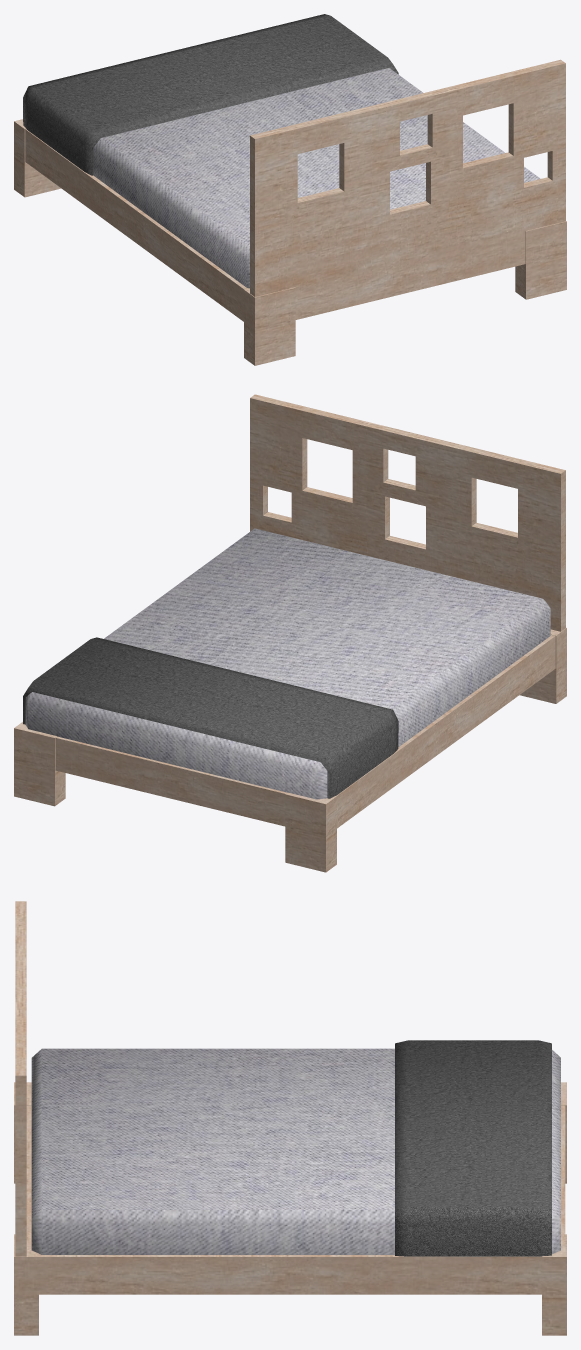
File: Bed_07.glb
3 renders of one model, top to bottom at view 1: azimuth 30°, elevation 25°; view 2: azimuth 150°, elevation 25°; view 3: azimuth 270°, elevation 25°, orthographic. The views are drawn at different scales.
Parts seen in each view (by area): view 1: Bed_07; view 2: Bed_07; view 3: Bed_07.
Part boxes in pixels (bbox=[...]): Bed_07: bbox=[14, 14, 566, 365]; Bed_07: bbox=[14, 394, 566, 872]; Bed_07: bbox=[14, 901, 566, 1335].
Size of the model in its own units: 2.14 by 1.48 by 2.86.
Materials: 3 (3 with a texture image).
